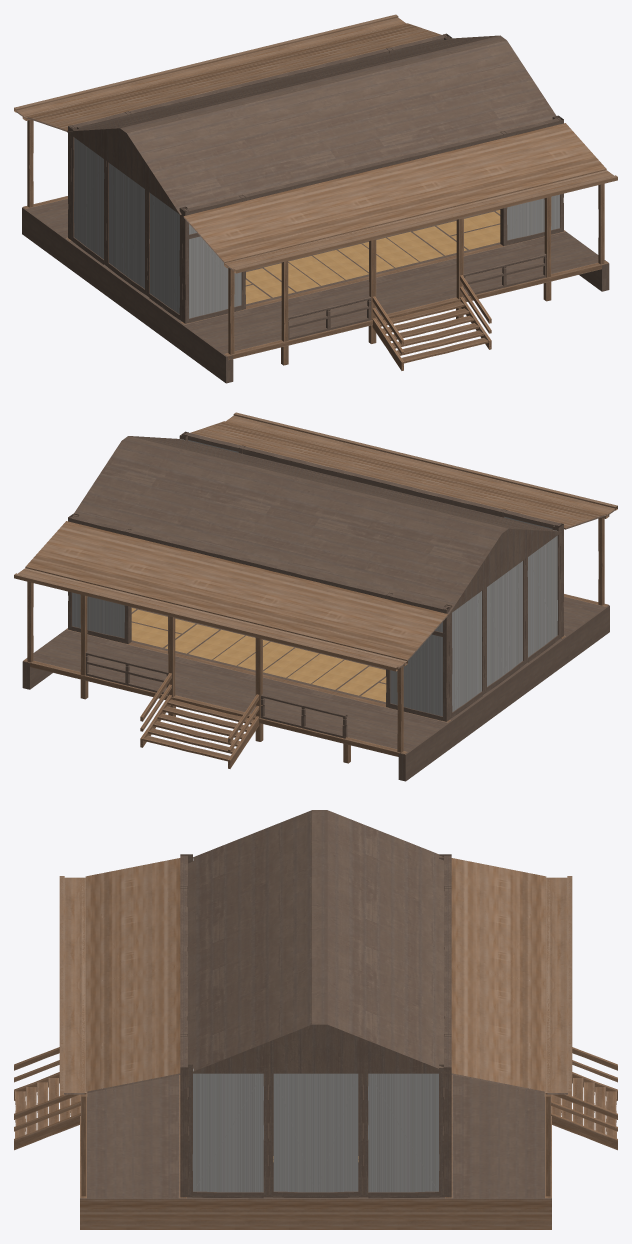
The model's file is BaseHouseJapan.fbx.
3 views of the same model, one above another, from view 1: azimuth 30°, elevation 25°; view 2: azimuth 150°, elevation 25°; view 3: azimuth 270°, elevation 25° (orthographic). The views are drawn at different scales.
Parts seen in each view (by area): view 1: TeaHouse; view 2: TeaHouse; view 3: TeaHouse.
Boxes of the visible parts, x1=… form: TeaHouse: x1=14, y1=14, x2=617, y2=383; TeaHouse: x1=14, y1=412, x2=617, y2=781; TeaHouse: x1=14, y1=810, x2=617, y2=1229.
Bounding box in the file's own units: 1144 × 511 × 1351.
